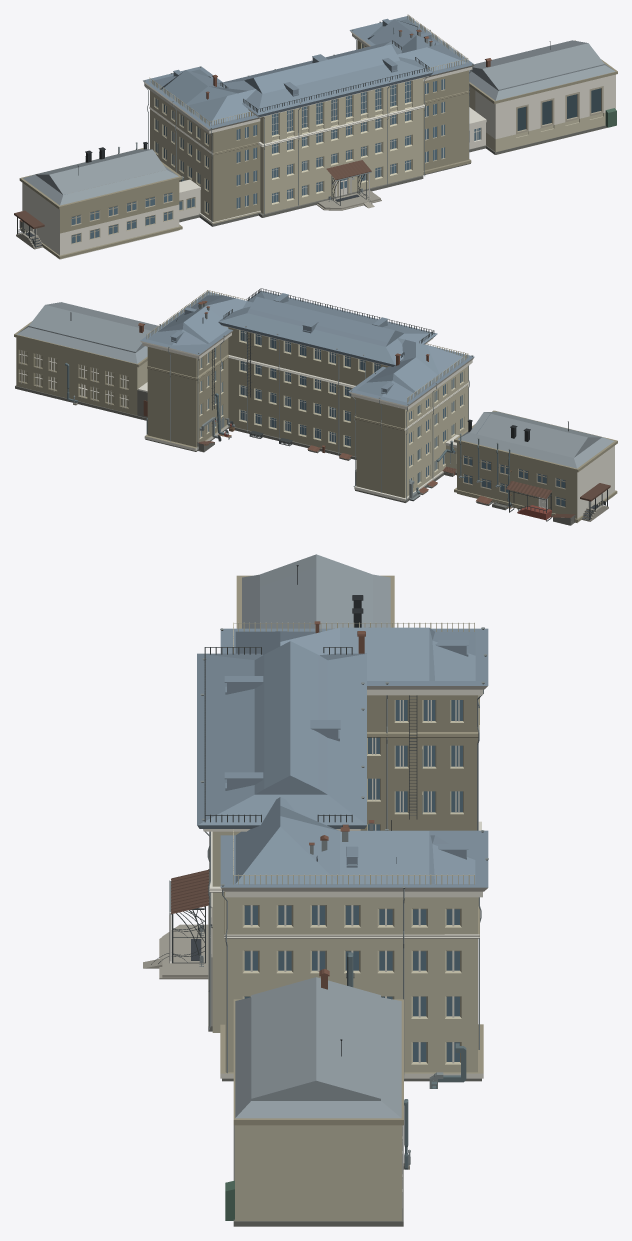
The model's file is university-v1.glb.
3 views of the same model, one above another, from view 1: azimuth 30°, elevation 25°; view 2: azimuth 150°, elevation 25°; view 3: azimuth 270°, elevation 25° (orthographic). The views are drawn at different scales.
Parts seen in each view (by area): view 1: Фасад · светлая штукатурка, Кровля · серо-голубая сталь, Карнизы и рамы · молочно-белые, Откосы · тёплый камень, Кровля крыльев · оцинковка, Окна · серо-голубое стекло, Боковые корпуса · штукатурка, Цоколь · серый бетон, Трубы и водостоки · оцинковка, Ступени · светлый бетон, Перила и крепления · графит, Окна в тени · стекло (+1 smaller); view 2: Откосы · тёплый камень, Кровля · серо-голубая сталь, Кровля крыльев · оцинковка, Фасад · светлая штукатурка, Карнизы и рамы · молочно-белые, Окна · серо-голубое стекло, Трубы и водостоки · оцинковка, Цоколь · серый бетон, Перила и крепления · графит, Козырёк · коричневая черепица, Двор · вентиляционные кожухи, Боковые корпуса · штукатурка (+2 smaller); view 3: Кровля · серо-голубая сталь, Фасад · светлая штукатурка, Кровля крыльев · оцинковка, Откосы · тёплый камень, Карнизы и рамы · молочно-белые, Окна · серо-голубое стекло, Трубы и водостоки · оцинковка, Ступени · светлый бетон, Перила и крепления · графит, Цоколь · серый бетон, Козырёк · коричневая черепица, Двор · вентиляционные кожухи.
Part boxes in pixels (x1=…): Фасад · светлая штукатурка: x1=149, y1=14, x2=607, y2=223; Кровля · серо-голубая сталь: x1=143, y1=16, x2=474, y2=129; Карнизы и рамы · молочно-белые: x1=22, y1=30, x2=615, y2=259; Откосы · тёплый камень: x1=19, y1=40, x2=617, y2=258; Кровля крыльев · оцинковка: x1=23, y1=40, x2=615, y2=205; Окна · серо-голубое стекло: x1=71, y1=44, x2=480, y2=243; Боковые корпуса · штукатурка: x1=71, y1=86, x2=603, y2=244; Цоколь · серый бетон: x1=19, y1=94, x2=607, y2=228; Трубы и водостоки · оцинковка: x1=21, y1=21, x2=473, y2=225; Ступени · светлый бетон: x1=16, y1=190, x2=381, y2=249; Перила и крепления · графит: x1=17, y1=40, x2=429, y2=247; Окна в тени · стекло: x1=517, y1=88, x2=600, y2=130; Откосы · тёплый камень: x1=14, y1=321, x2=617, y2=522; Кровля · серо-голубая сталь: x1=140, y1=290, x2=474, y2=405; Кровля крыльев · оцинковка: x1=16, y1=302, x2=614, y2=468; Фасад · светлая штукатурка: x1=137, y1=290, x2=468, y2=497; Карнизы и рамы · молочно-белые: x1=18, y1=325, x2=614, y2=522; Окна · серо-голубое стекло: x1=201, y1=330, x2=565, y2=506; Трубы и водостоки · оцинковка: x1=73, y1=291, x2=512, y2=507; Цоколь · серый бетон: x1=15, y1=385, x2=575, y2=525; Перила и крепления · графит: x1=75, y1=288, x2=607, y2=521; Козырёк · коричневая черепица: x1=197, y1=441, x2=610, y2=517; Двор · вентиляционные кожухи: x1=65, y1=363, x2=510, y2=505; Боковые корпуса · штукатурка: x1=463, y1=455, x2=565, y2=507; Кровля · серо-голубая сталь: x1=197, y1=627, x2=488, y2=887; Фасад · светлая штукатурка: x1=212, y1=622, x2=477, y2=1220; Кровля крыльев · оцинковка: x1=235, y1=554, x2=401, y2=1118; Откосы · тёплый камень: x1=220, y1=575, x2=483, y2=1125; Карнизы и рамы · молочно-белые: x1=203, y1=686, x2=487, y2=1207; Окна · серо-голубое стекло: x1=244, y1=700, x2=462, y2=1061; Трубы и водостоки · оцинковка: x1=169, y1=627, x2=488, y2=1165; Ступени · светлый бетон: x1=143, y1=924, x2=409, y2=1169; Перила и крепления · графит: x1=151, y1=647, x2=417, y2=978; Цоколь · серый бетон: x1=208, y1=869, x2=481, y2=1226; Козырёк · коричневая черепица: x1=171, y1=869, x2=208, y2=914; Двор · вентиляционные кожухи: x1=347, y1=952, x2=466, y2=1169.
Bounding box in the file's own units: 4.61 × 0.9639 × 1.22.
